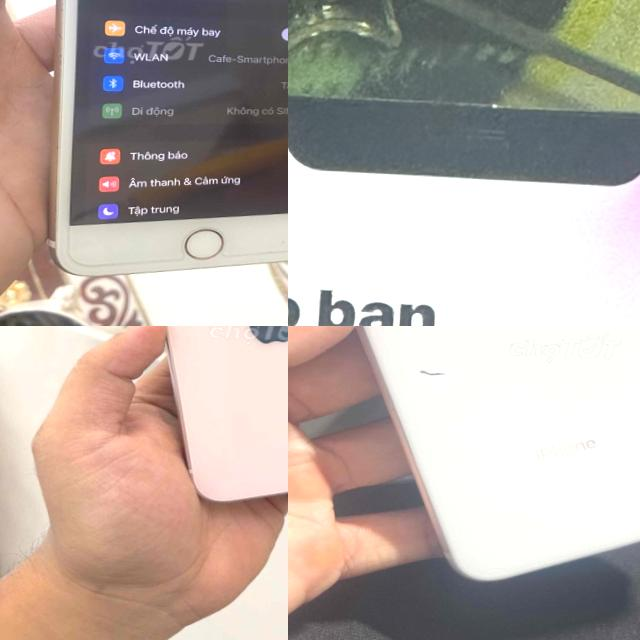scratch: (49, 0, 69, 156), (411, 360, 456, 386), (259, 230, 288, 255)
